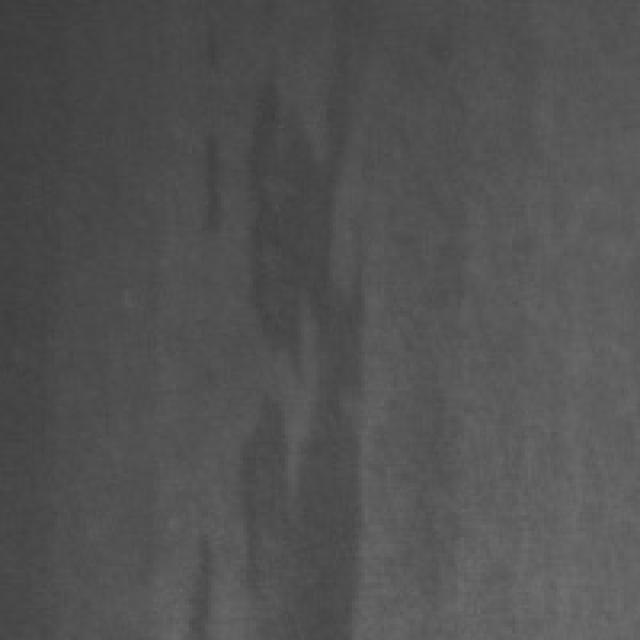inclusion: (224, 77, 365, 630)
